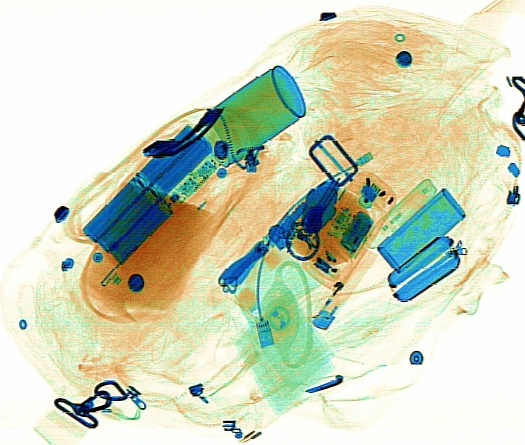lighter: (307, 244, 380, 331)
powerbank: (76, 118, 229, 266)
